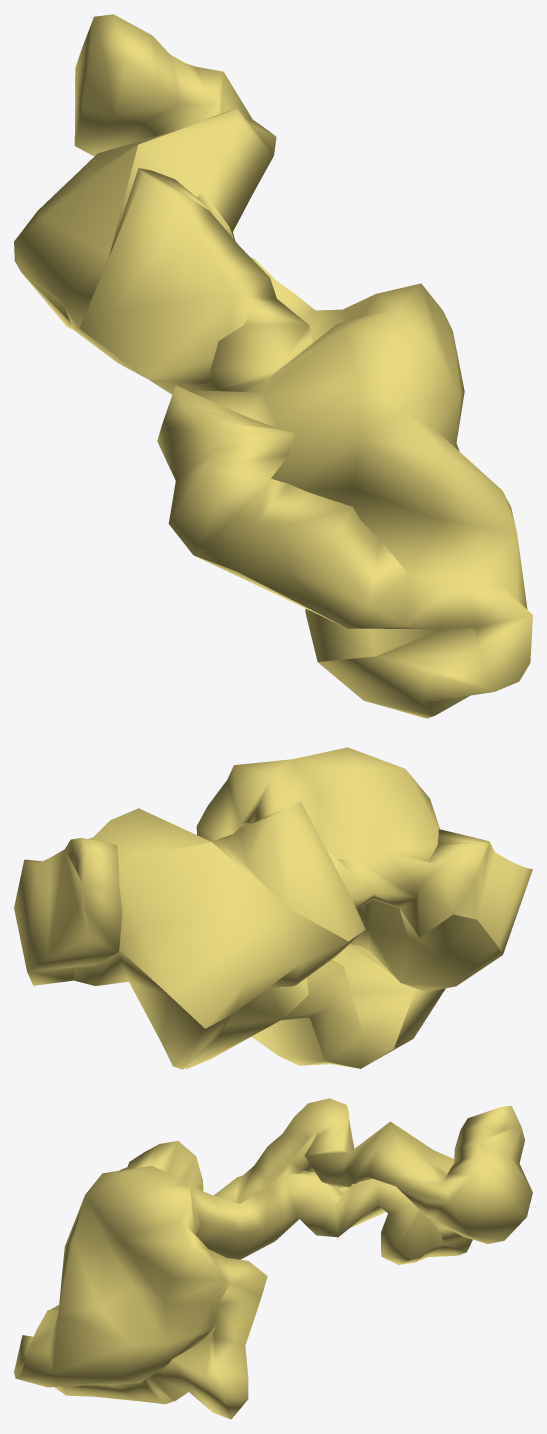
The model's file is inferior-frontal-sulcus-l.glb.
The picture shows the model from 3 angles, top to bottom: view 1: azimuth 30°, elevation 25°; view 2: azimuth 150°, elevation 25°; view 3: azimuth 270°, elevation 25°; orthographic projection. The views are drawn at different scales.
Visible parts, largest first — view 1: Inferior frontal sulcus.l; view 2: Inferior frontal sulcus.l; view 3: Inferior frontal sulcus.l.
Boxes of the visible parts, x1,y1,x2,y2 form: Inferior frontal sulcus.l: (14,14,532,718); Inferior frontal sulcus.l: (14,747,532,1069); Inferior frontal sulcus.l: (14,1098,532,1419).
Size of the model in its own units: 0.0237 by 0.0322 by 0.0509.
